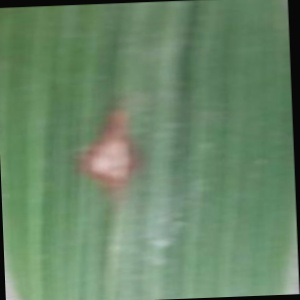Brown_Spot: (66, 98, 145, 215)
